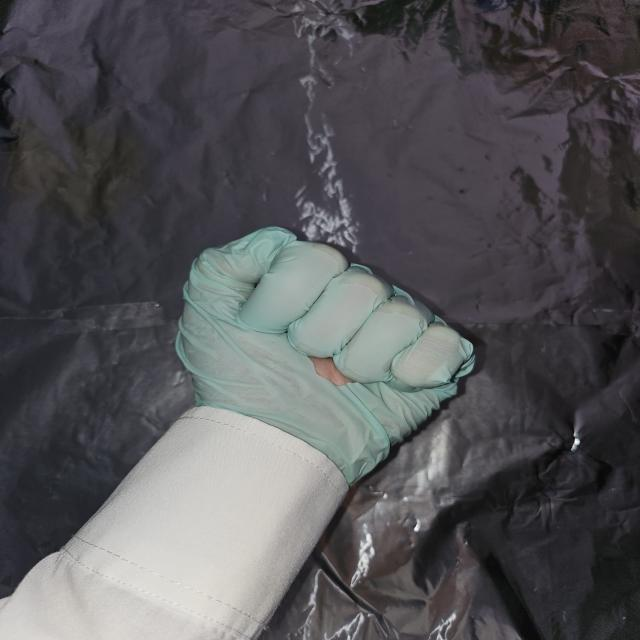gloves_damaged: (174, 225, 482, 490)
